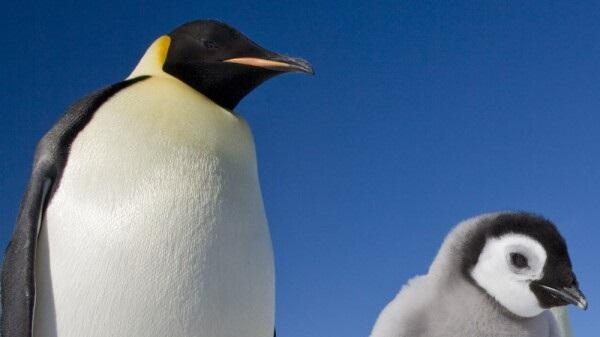Emperor Penguin: (0, 2, 356, 337)
